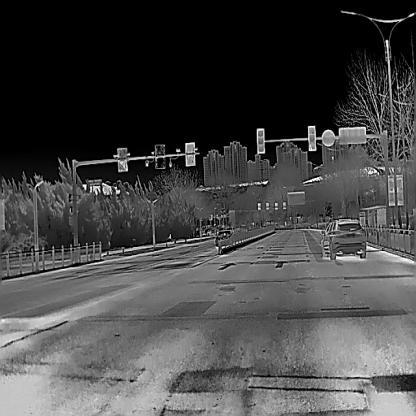car: (319, 215, 367, 260), (213, 228, 237, 246)
